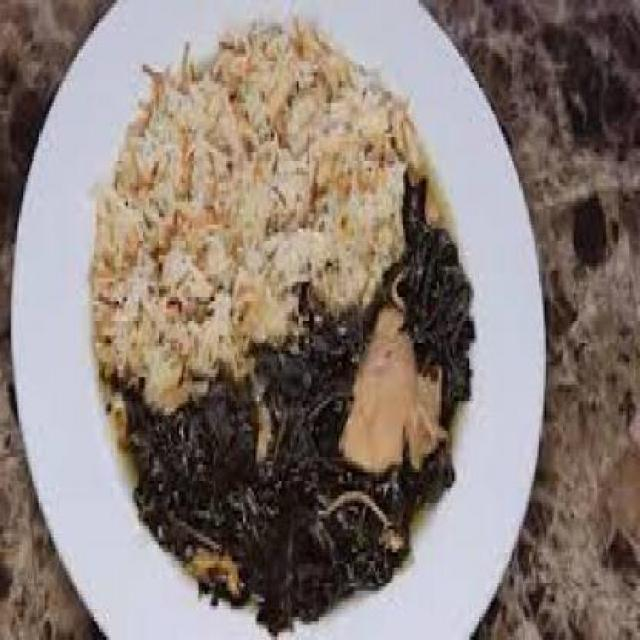fried rice: (90, 22, 427, 388)
molokhia: (111, 186, 489, 622)
